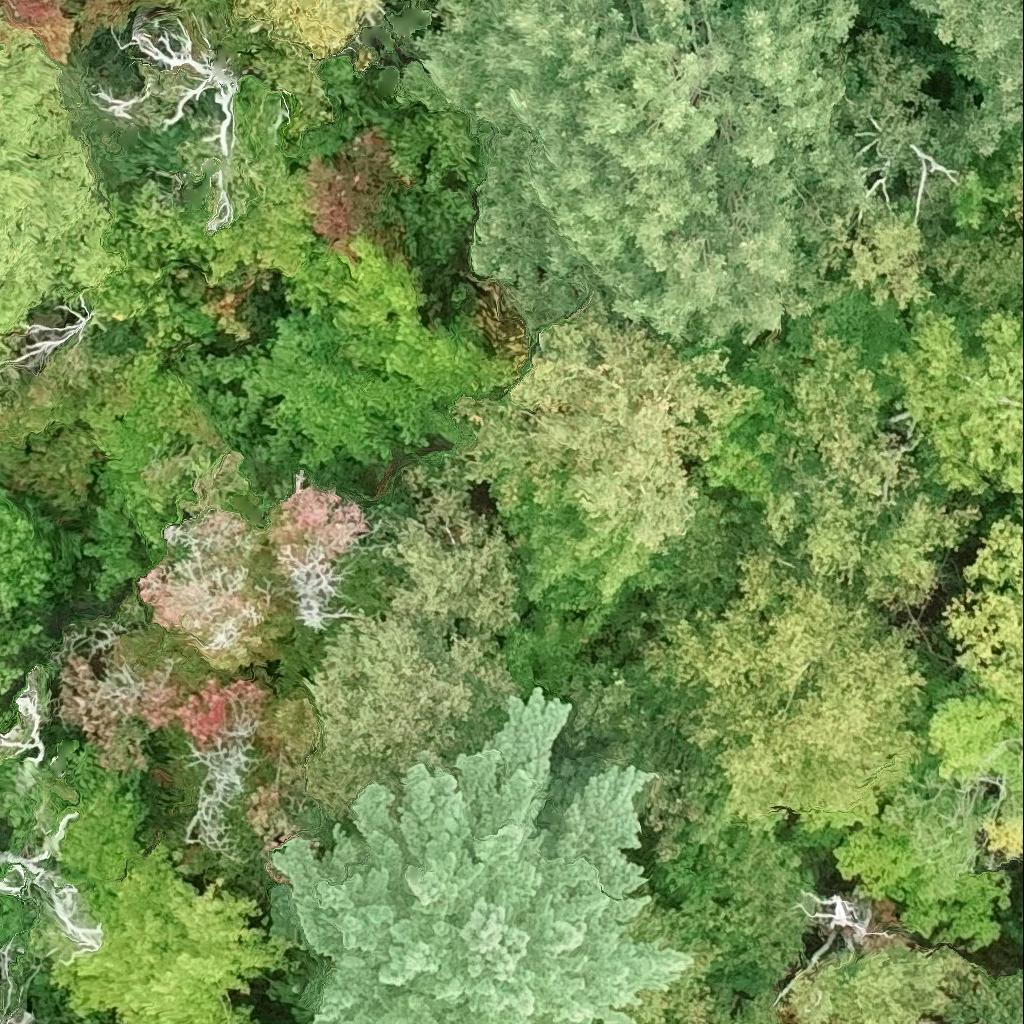crown: (422, 0, 870, 356), (286, 694, 685, 1023), (305, 465, 528, 830), (443, 306, 751, 555), (650, 548, 921, 817), (199, 237, 518, 465), (49, 744, 302, 1023), (791, 669, 1023, 949), (772, 320, 980, 605), (80, 345, 261, 602), (0, 46, 126, 336), (884, 309, 1023, 501), (177, 680, 321, 861), (208, 84, 334, 286), (484, 452, 647, 605), (0, 326, 131, 506), (692, 344, 826, 513), (145, 510, 279, 670), (769, 939, 995, 1023), (59, 654, 186, 789), (920, 0, 1023, 151), (270, 483, 372, 635), (129, 16, 238, 155), (944, 512, 1023, 703), (929, 157, 1023, 306), (302, 130, 410, 246), (0, 478, 56, 692), (0, 0, 179, 61), (0, 742, 82, 853), (389, 97, 489, 188), (236, 0, 380, 61), (11, 293, 95, 372), (621, 967, 711, 1023), (799, 890, 880, 943), (981, 974, 1023, 1023), (0, 1012, 34, 1023), (0, 692, 6, 723), (949, 1014, 966, 1023), (402, 0, 420, 6)
